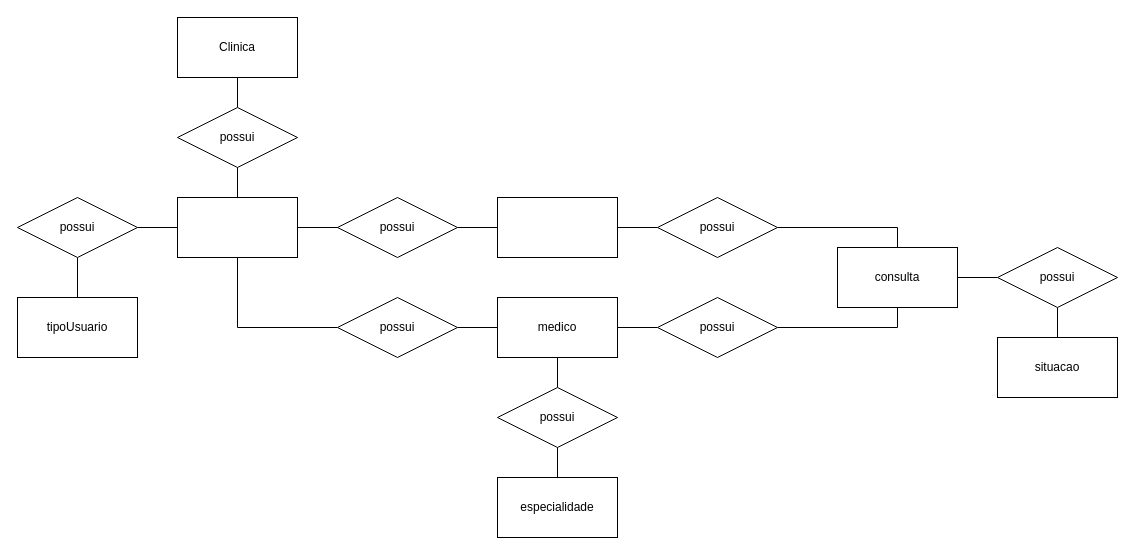
Some shapes in this 1135 by 555 pixel diagram are drawn without their labels. Each missing label, with the centre of its shape:
pacientes: (557,227)
usuario: (237,227)
